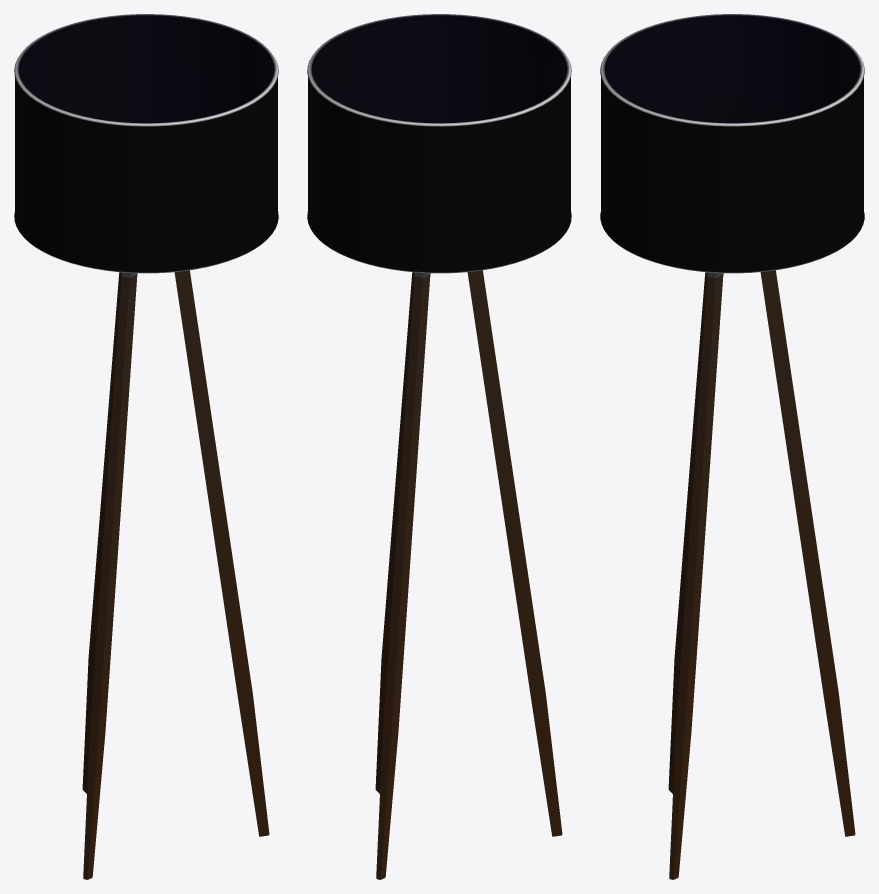
The model's file is TallLamp.fbx.
The picture shows the model from 3 angles, left to right: view 1: azimuth 30°, elevation 25°; view 2: azimuth 150°, elevation 25°; view 3: azimuth 270°, elevation 25°; orthographic projection.
Visible parts, largest first — view 1: TallLamp; view 2: TallLamp; view 3: TallLamp.
Part boxes in pixels (left/top/right/bottom): TallLamp: left=14, top=14, right=278, bottom=879; TallLamp: left=307, top=14, right=571, bottom=879; TallLamp: left=600, top=14, right=864, bottom=879.
Bounding box in the file's own units: 52 × 167 × 52.
